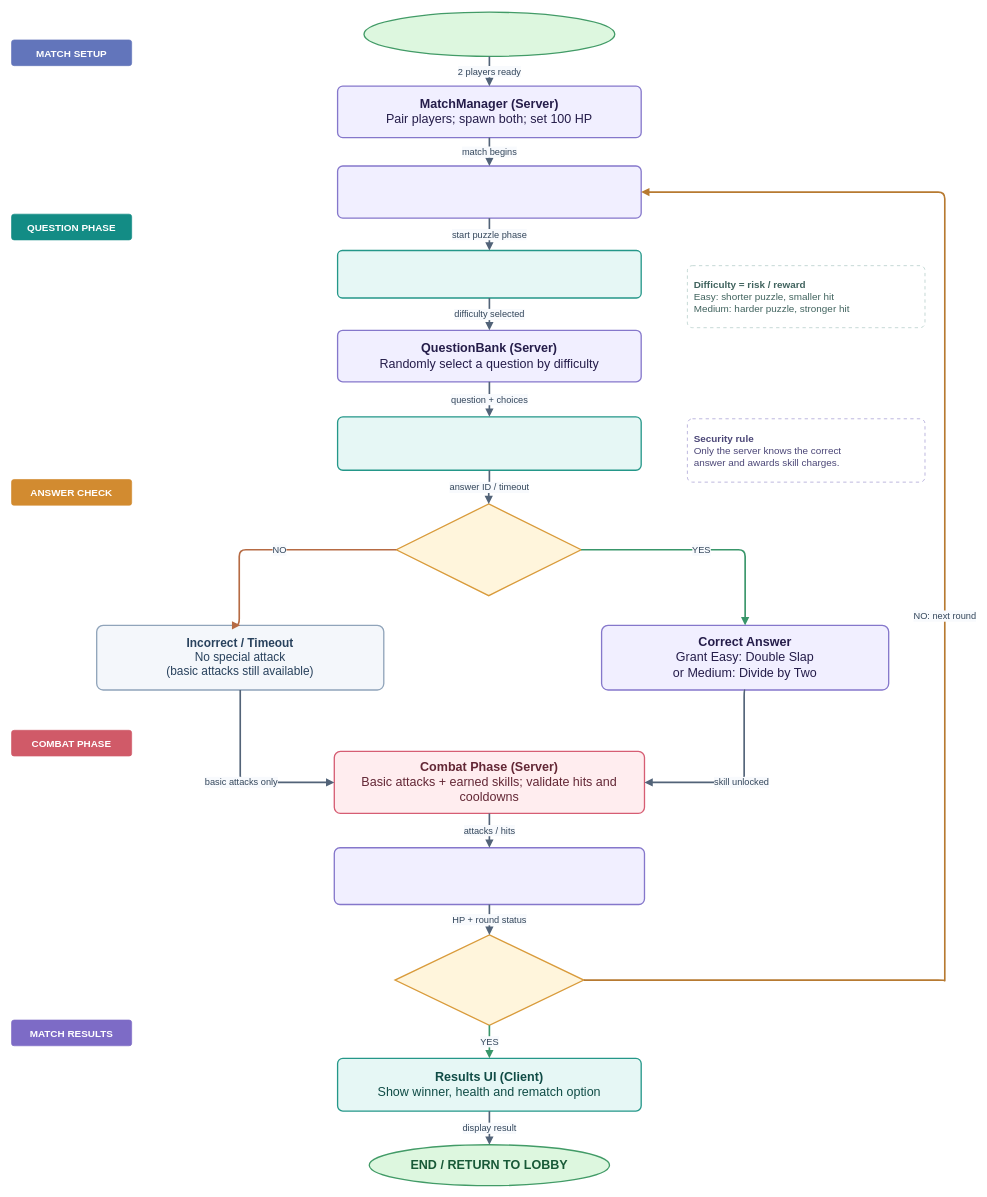
The diagram is 987 pixels wide and 1197 high, and some of its shapes have lost their labels. Each missing label, with the centre of its shape:
Begin New Round (Server) Reset round timer and skill charges: (489,191)
Choose Difficulty (Client) Easy or Medium: (489,273)
KO or final round completed?: (489,980)
Quiz UI (Client) Display options and countdown; submit answer ID: (489,443)
Server validates answer + timer: (488,549)
START 2 players join the server: (489,34)
Update Match State (Server) Apply damage, synchronize HP, check combat timer: (489,876)
